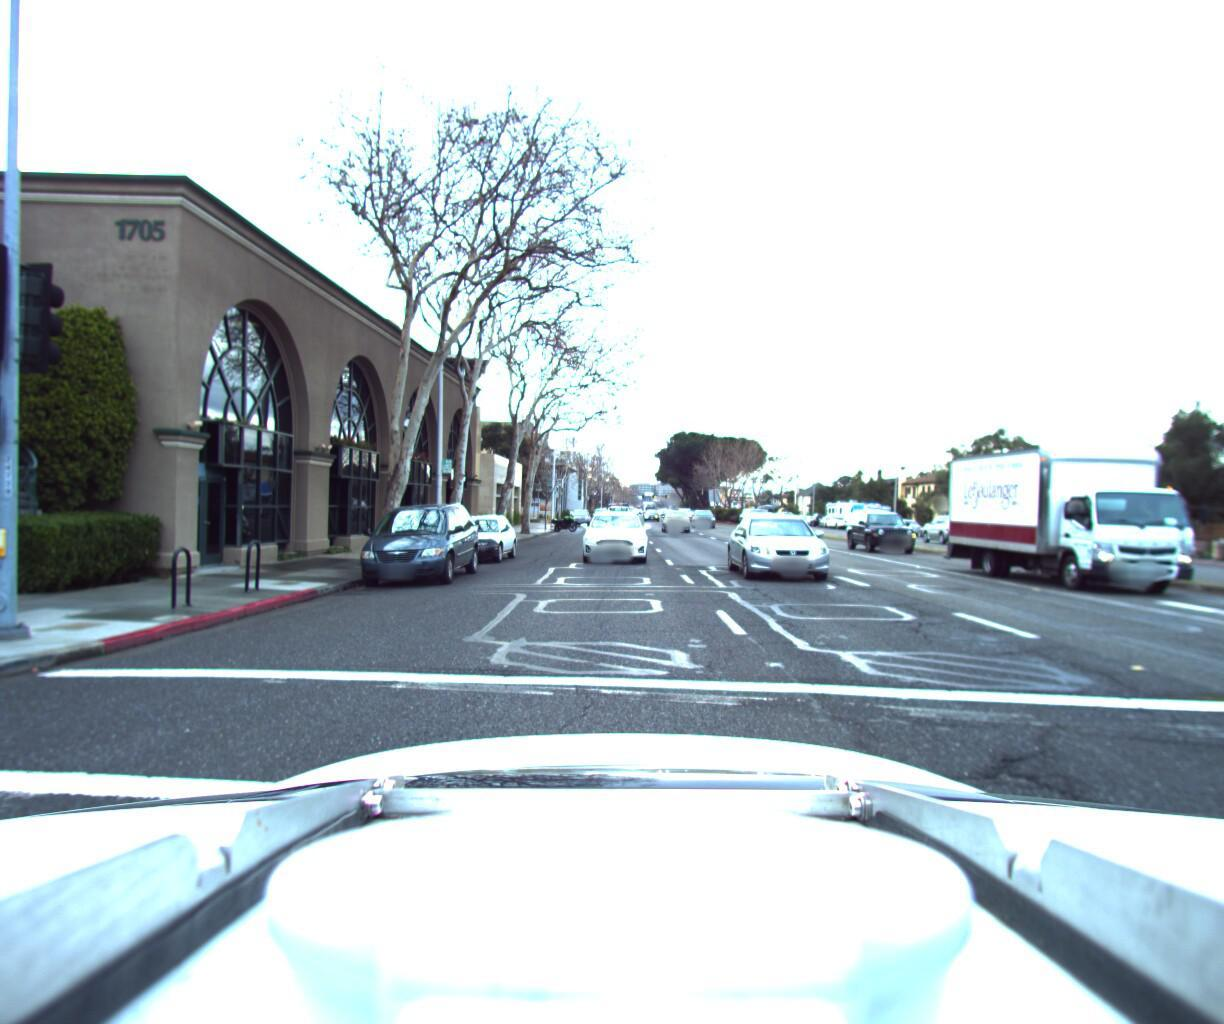car: (342, 492, 487, 589), (727, 499, 858, 591), (433, 505, 521, 562), (582, 502, 650, 563), (843, 500, 923, 549), (910, 502, 968, 537), (598, 495, 631, 523), (659, 501, 694, 527), (690, 499, 718, 523), (570, 500, 592, 520)
motorcycle: (548, 500, 582, 525)
other_vehicle: (847, 493, 894, 526)
truck: (934, 431, 1224, 596)
